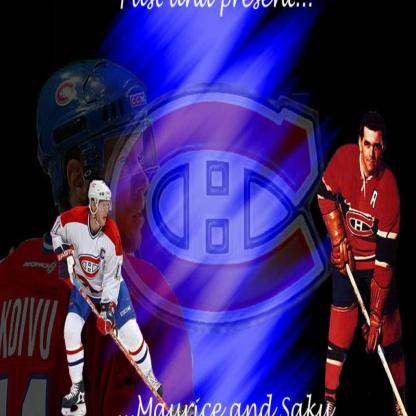face: (87, 125, 150, 252), (362, 132, 383, 173), (96, 199, 110, 225)
